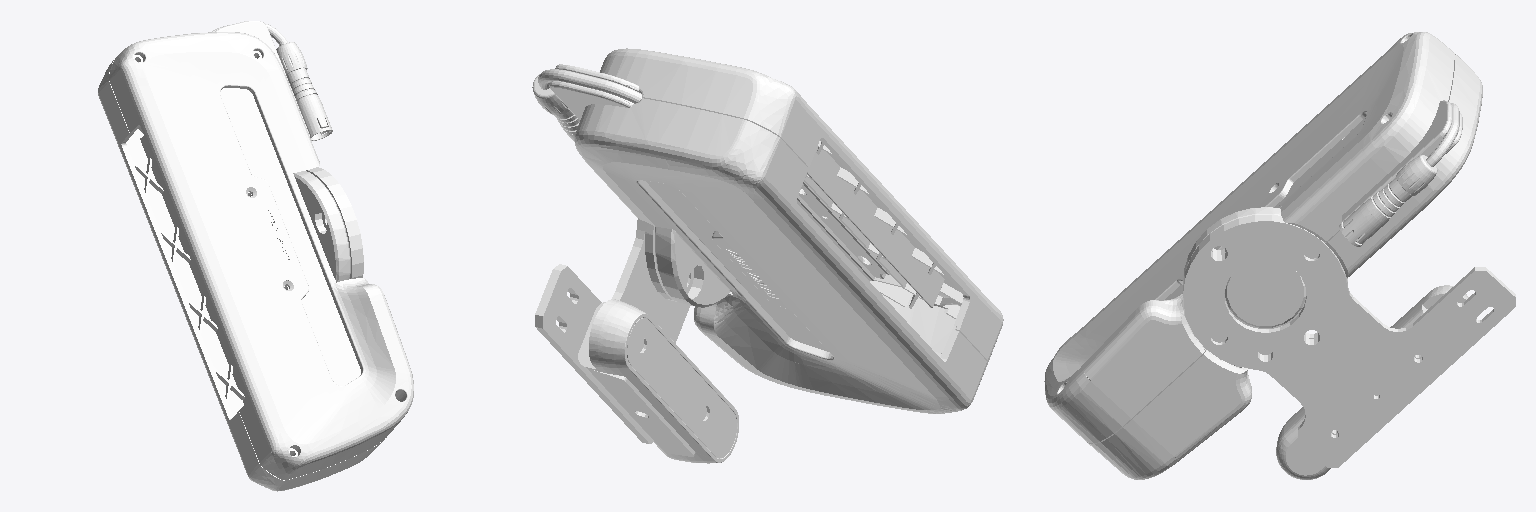
robot.urdf — panda:
<?xml version="1.0"?>
<!-- =================================================================================== -->
<!-- |    This document was autogenerated by xacro from panda_arm_hand.urdf.xacro      | -->
<!-- |    EDITING THIS FILE BY HAND IS NOT RECOMMENDED                                 | -->
<!-- =================================================================================== -->
<robot name="panda" xmlns:xacro="http://www.ros.org/wiki/xacro">
  <link name="panda_link0">
    <visual>
      <geometry>
        <mesh filename="meshes/visual/link0.dae" />
      </geometry>
      <material name="panda_white">
        <color rgba="1. 1. 1. 1." />
      </material>
    </visual>
    <collision>
      <geometry>
        <mesh filename="meshes/collision/link0.stl" />
      </geometry>
      <material name="panda_white" />
    </collision>
  </link>
  <link name="panda_link1">
    <inertial>
      <origin rpy="0 0 0" xyz="0 -0.04 -0.05" />
      <mass value="2.7" />
      <inertia ixx="0.1" ixy="0" ixz="0" iyy="0.1" iyz="0" izz="0.1" />
    </inertial>
    <visual>
      <geometry>
        <mesh filename="meshes/visual/link1.dae" />
      </geometry>
      <material name="panda_white" />
    </visual>
    <collision>
      <geometry>
        <mesh filename="meshes/collision/link1.stl" />
      </geometry>
      <material name="panda_white" />
    </collision>
  </link>
  <joint name="panda_joint1" type="revolute">
    <safety_controller k_position="100.0" k_velocity="40.0" soft_lower_limit="-2.8973"
      soft_upper_limit="2.8973" />
    <origin rpy="0 0 0" xyz="0 0 0.333" />
    <parent link="panda_link0" />
    <child link="panda_link1" />
    <axis xyz="0 0 1" />
    <limit effort="87" lower="-2.8973" upper="2.8973" velocity="2.1750" />
  </joint>
  <link name="panda_link2">
    <inertial>
      <origin rpy="0 0 0" xyz="0 -0.04 0.06" />
      <mass value="2.73" />
      <inertia ixx="0.1" ixy="0" ixz="0" iyy="0.1" iyz="0" izz="0.1" />
    </inertial>
    <visual>
      <geometry>
        <mesh filename="meshes/visual/link2.dae" />
      </geometry>
      <material name="panda_white" />
    </visual>
    <collision>
      <geometry>
        <mesh filename="meshes/collision/link2.stl" />
      </geometry>
      <material name="panda_white" />
    </collision>
  </link>
  <joint name="panda_joint2" type="revolute">
    <safety_controller k_position="100.0" k_velocity="40.0" soft_lower_limit="-1.7628"
      soft_upper_limit="1.7628" />
    <origin rpy="-1.57079632679 0 0" xyz="0 0 0" />
    <parent link="panda_link1" />
    <child link="panda_link2" />
    <axis xyz="0 0 1" />
    <limit effort="87" lower="-1.7628" upper="1.7628" velocity="2.1750" />
  </joint>
  <link name="panda_link3">
    <inertial>
      <origin rpy="0 0 0" xyz="0.01 0.01 -0.05" />
      <mass value="2.04" />
      <inertia ixx="0.1" ixy="0" ixz="0" iyy="0.1" iyz="0" izz="0.1" />
    </inertial>
    <visual>
      <geometry>
        <mesh filename="meshes/visual/link3.dae" />
      </geometry>
      <material name="panda_red">
        <color rgba="1. 1. 1. 1." />
      </material>
    </visual>
    <collision>
      <geometry>
        <mesh filename="meshes/collision/link3.stl" />
      </geometry>
    </collision>
  </link>
  <joint name="panda_joint3" type="revolute">
    <safety_controller k_position="100.0" k_velocity="40.0" soft_lower_limit="-2.8973"
      soft_upper_limit="2.8973" />
    <origin rpy="1.57079632679 0 0" xyz="0 -0.316 0" />
    <parent link="panda_link2" />
    <child link="panda_link3" />
    <axis xyz="0 0 1" />
    <limit effort="87" lower="-2.8973" upper="2.8973" velocity="2.1750" />
  </joint>
  <link name="panda_link4">
    <inertial>
      <origin rpy="0 0 0" xyz="-0.03 0.03 0.02" />
      <mass value="2.08" />
      <inertia ixx="0.1" ixy="0" ixz="0" iyy="0.1" iyz="0" izz="0.1" />
    </inertial>
    <visual>
      <geometry>
        <mesh filename="meshes/visual/link4.dae" />
      </geometry>
      <material name="panda_white" />
    </visual>
    <collision>
      <geometry>
        <mesh filename="meshes/collision/link4.stl" />
      </geometry>
      <material name="panda_white" />
    </collision>
  </link>
  <joint name="panda_joint4" type="revolute">
    <safety_controller k_position="100.0" k_velocity="40.0" soft_lower_limit="-3.0718"
      soft_upper_limit="-0.0698" />
    <origin rpy="1.57079632679 0 0" xyz="0.0825 0 0" />
    <parent link="panda_link3" />
    <child link="panda_link4" />
    <axis xyz="0 0 1" />
    <limit effort="87" lower="-3.0718" upper="-0.0698" velocity="2.1750" />
  </joint>
  <link name="panda_link5">
    <inertial>
      <origin rpy="0 0 0" xyz="0 0.04 -0.12" />
      <mass value="3" />
      <inertia ixx="0.1" ixy="0" ixz="0" iyy="0.1" iyz="0" izz="0.1" />
    </inertial>
    <visual>
      <geometry>
        <mesh filename="meshes/visual/link5.dae" />
      </geometry>
      <material name="panda_white" />
    </visual>
    <collision>
      <geometry>
        <mesh filename="meshes/collision/link5.stl" />
      </geometry>
      <material name="panda_white" />
    </collision>
  </link>
  <joint name="panda_joint5" type="revolute">
    <safety_controller k_position="100.0" k_velocity="40.0" soft_lower_limit="-2.8975"
      soft_upper_limit="2.8975" />
    <origin rpy="-1.57079632679 0 0" xyz="-0.0825 0.384 0" />
    <parent link="panda_link4" />
    <child link="panda_link5" />
    <axis xyz="0 0 1" />
    <limit effort="12" lower="-2.8975" upper="2.8975" velocity="2.6100" />
  </joint>
  <link name="panda_link6">
    <inertial>
      <origin rpy="0 0 0" xyz="0.04 0 0" />
      <mass value="1.3" />
      <inertia ixx="0.1" ixy="0" ixz="0" iyy="0.1" iyz="0" izz="0.1" />
    </inertial>
    <visual>
      <geometry>
        <mesh filename="meshes/visual/link6.dae" />
      </geometry>
      <material name="panda_white" />
    </visual>
    <collision>
      <geometry>
        <mesh filename="meshes/collision/link6.stl" />
      </geometry>
      <material name="panda_white" />
    </collision>
  </link>
  <joint name="panda_joint6" type="revolute">
    <safety_controller k_position="100.0" k_velocity="40.0" soft_lower_limit="-0.0175"
      soft_upper_limit="3.7525" />
    <origin rpy="1.57079632679 0 0" xyz="0 0 0" />
    <parent link="panda_link5" />
    <child link="panda_link6" />
    <axis xyz="0 0 1" />
    <limit effort="12" lower="-0.0175" upper="3.7525" velocity="2.6100" />
  </joint>
  <link name="panda_link7">
    <inertial>
      <origin rpy="0 0 0" xyz="0 0 0.08" />
      <mass value=".2" />
      <inertia ixx="0.1" ixy="0" ixz="0" iyy="0.1" iyz="0" izz="0.1" />
    </inertial>
    <visual>
      <geometry>
        <mesh filename="meshes/visual/link7.dae" />
      </geometry>
      <material name="panda_white" />
    </visual>
    <collision>
      <geometry>
        <mesh filename="meshes/collision/link7.stl" />
      </geometry>
      <material name="panda_white" />
    </collision>
  </link>
  <joint name="panda_joint7" type="revolute">
    <safety_controller k_position="100.0" k_velocity="40.0" soft_lower_limit="-2.8973"
      soft_upper_limit="2.8973" />
    <origin rpy="1.57079632679 0 0" xyz="0.088 0 0" />
    <parent link="panda_link6" />
    <child link="panda_link7" />
    <axis xyz="0 0 1" />
    <limit effort="12" lower="-2.8973" upper="2.8973" velocity="2.6100" />
  </joint>
  <link name="panda_link8">
  </link>
  <joint name="panda_joint8" type="fixed">
    <origin rpy="0 0 -0.785398163397" xyz="0 0 0.107" />
    <parent link="panda_link7" />
    <child link="panda_link8" />
    <axis xyz="0 0 0" />
  </joint>

  <joint name="panda_hand_joint" type="fixed">
    <parent link="panda_link8" />
    <child link="panda_hand" />
    <origin rpy="0 0 0" xyz="0 0 0.006" />
  </joint>

  <link name="panda_hand"></link>

  <joint name="fake_flange_joint" type="fixed">
    <parent link="panda_hand" />
    <child link="fake_flange" />
    <origin rpy="0 0 0" xyz="0 0 -0.006" />
  </joint>

  <link name="fake_flange"></link>

  <joint name="flange_joint" type="fixed">
    <parent link="fake_flange" />
    <child link="flange" />
    <origin rpy="0 3.1415926 3.1415926" xyz="0 0 0" /> <!--z 0.006-->
  </joint>

  <link
    name="flange">
    <inertial>
      <origin
        xyz="0.02283 0.0047681 -0.0022995"
        rpy="0 0 0" />
      <mass
        value="0.058287" />
      <inertia
        ixx="2.9219E-05"
        ixy="-9.9877E-06"
        ixz="-1.076E-06"
        iyy="5.5536E-05"
        iyz="-2.1004E-07"
        izz="8.4465E-05" />
    </inertial>
    <visual>
      <origin
        xyz="0 0 0"
        rpy="0 0 0" />
      <geometry>
        <mesh
          filename="meshes/customized_gripper/flange.STL" />
      </geometry>
      <material
        name="">
        <color
          rgba="1 1 1 1" />
      </material>
    </visual>
    <collision>
      <origin
        xyz="0 0 0"
        rpy="0 0 0" />
      <geometry>
        <mesh
          filename="meshes/customized_gripper/flange.STL" />
      </geometry>
    </collision>
  </link>
  <link
    name="camera_link">
    <inertial>
      <origin
        xyz="0.010114 -0.0020492 9.199E-05"
        rpy="0 0 0" />
      <mass
        value="0.10278" />
      <inertia
        ixx="7.2613E-05"
        ixy="-1.2272E-06"
        ixz="-3.4142E-08"
        iyy="7.0847E-06"
        iyz="-1.1863E-08"
        izz="7.1869E-05" />
    </inertial>
    <visual>
      <origin
        xyz="0 0 0"
        rpy="0 0 0" />
      <geometry>
        <mesh
          filename="meshes/customized_gripper/camera_link.STL" />
      </geometry>
      <material
        name="">
        <color
          rgba="1 1 1 1" />
      </material>
    </visual>
    <collision>
      <origin
        xyz="0 0 0"
        rpy="0 0 0" />
      <geometry>
        <mesh
          filename="meshes/customized_gripper/camera_link.STL" />
      </geometry>
    </collision>
  </link>
  <joint
    name="camera_joint"
    type="fixed">
    <origin
      xyz="0.06 0 -0.003"
      rpy="0 1.5708 0" />
    <parent
      link="flange" />
    <child
      link="camera_link" />
    <axis
      xyz="0 0 0" />
  </joint>
  <link
    name="basebody1_link">
    <inertial>
      <origin
        xyz="5.0336E-05 0.0010937 -0.016697"
        rpy="0 0 0" />
      <mass
        value="0.17463" />
      <inertia
        ixx="0.00028328"
        ixy="-1.4577E-07"
        ixz="-6.5522E-08"
        iyy="4.7378E-05"
        iyz="9.2325E-07"
        izz="0.00029833" />
    </inertial>
    <visual>
      <origin
        xyz="0 0 0"
        rpy="0 0 0" />
      <geometry>
        <mesh
          filename="meshes/customized_gripper/basebody1_link.STL" />
      </geometry>
      <material
        name="">
        <color
          rgba="1 1 1 1" />
      </material>
    </visual>
    <collision>
      <origin
        xyz="0 0 0"
        rpy="0 0 0" />
      <geometry>
        <mesh
          filename="meshes/customized_gripper/basebody1_link.STL" />
      </geometry>
    </collision>
  </link>
  <joint
    name="basebody1_joint"
    type="fixed">
    <origin
      xyz="0 0 0"
      rpy="0 0 0" />
    <parent
      link="flange" />
    <child
      link="basebody1_link" />
    <axis
      xyz="0 0 0" />
  </joint>
  <link
    name="cable1_link">
    <inertial>
      <origin
        xyz="-7.6838E-16 0.085884 -0.011726"
        rpy="0 0 0" />
      <mass
        value="0.0034189" />
      <inertia
        ixx="1.7275E-06"
        ixy="1.2981E-21"
        ixz="3.7235E-23"
        iyy="8.7108E-07"
        iyz="-4.4962E-07"
        izz="8.6321E-07" />
    </inertial>
    <visual>
      <origin
        xyz="0 0 0"
        rpy="0 0 0" />
      <geometry>
        <mesh
          filename="meshes/customized_gripper/cable1_link.STL" />
      </geometry>
      <material
        name="">
        <color
          rgba="1 1 1 1" />
      </material>
    </visual>
    <collision>
      <origin
        xyz="0 0 0"
        rpy="0 0 0" />
      <geometry>
        <mesh
          filename="meshes/customized_gripper/cable1_link.STL" />
      </geometry>
    </collision>
  </link>
  <joint
    name="cable1_joint"
    type="fixed">
    <origin
      xyz="0 0 0"
      rpy="0 0 0" />
    <parent
      link="flange" />
    <child
      link="cable1_link" />
    <axis
      xyz="0 0 0" />
  </joint>
  <link
    name="cable2_link">
    <inertial>
      <origin
        xyz="-6.0542E-07 0.069512 0.015001"
        rpy="0 0 0" />
      <mass
        value="0.0087825" />
      <inertia
        ixx="1.2068E-06"
        ixy="-7.5509E-11"
        ixz="2.1709E-10"
        iyy="1.3571E-07"
        iyz="1.7652E-10"
        izz="1.2064E-06" />
    </inertial>
    <visual>
      <origin
        xyz="0 0 0"
        rpy="0 0 0" />
      <geometry>
        <mesh
          filename="meshes/customized_gripper/cable2_link.STL" />
      </geometry>
      <material
        name="">
        <color
          rgba="1 1 1 1" />
      </material>
    </visual>
    <collision>
      <origin
        xyz="0 0 0"
        rpy="0 0 0" />
      <geometry>
        <mesh
          filename="meshes/customized_gripper/cable2_link.STL" />
      </geometry>
    </collision>
  </link>
  <joint
    name="cable2_joint"
    type="fixed">
    <origin
      xyz="0 0 0"
      rpy="0 0 0" />
    <parent
      link="cable1_link" />
    <child
      link="cable2_link" />
    <axis
      xyz="0 0 0" />
  </joint>
  <link
    name="basebody2_link">
    <inertial>
      <origin
        xyz="-2.7792E-05 -0.0025508 -0.034721"
        rpy="0 0 0" />
      <mass
        value="0.27945" />
      <inertia
        ixx="0.0014553"
        ixy="-7.8451E-07"
        ixz="1.1461E-07"
        iyy="0.00018239"
        iyz="1.0848E-05"
        izz="0.0012903" />
    </inertial>
    <visual>
      <origin
        xyz="0 0 0"
        rpy="0 0 0" />
      <geometry>
        <mesh
          filename="meshes/customized_gripper/basebody2_link.STL" />
      </geometry>
      <material
        name="">
        <color
          rgba="1 1 1 1" />
      </material>
    </visual>
    <collision>
      <origin
        xyz="0 0 0"
        rpy="0 0 0" />
      <geometry>
        <mesh
          filename="meshes/customized_gripper/basebody2_link.STL" />
      </geometry>
    </collision>
  </link>
  <joint
    name="basebody2_joint"
    type="fixed">
    <origin
      xyz="0 0 0"
      rpy="0 0 0" />
    <parent
      link="flange" />
    <child
      link="basebody2_link" />
    <axis
      xyz="0 0 0" />
  </joint>
  
  
  <link
    name="panda_leftfinger">
    <visual>
      <origin
        xyz="0 0 0"
        rpy="0 0 0" />
      <geometry>
        <mesh
          filename="meshes/customized_gripper/finger_visual.obj" />
      </geometry>
      <material
        name="">
        <color
          rgba="1 1 1 1" />
      </material>
    </visual>
    <collision>
      <origin
        xyz="0 0 0"
        rpy="0 0 0" />
      <geometry>
        <mesh
          filename="meshes/customized_gripper/finger_coll.obj" />
      </geometry>
    </collision>
  </link>

  <joint
    name="panda_finger_joint1"
    type="prismatic">
    <origin
      xyz="0 0 -0.1324"
      rpy="1.5708 1.5708 0" />
    <parent
      link="basebody2_link" />
    <child
      link="panda_leftfinger" />
    <axis
      xyz="0 0 -1" />
    <limit
      lower="0"
      upper="0.04"
      effort="0"
      velocity="2.61" />
  </joint>
  
  <link
    name="panda_rightfinger">
    <visual>
      <origin
        xyz="0 0 0"
        rpy="0 0 0" />
      <geometry>
        <mesh
          filename="meshes/customized_gripper/finger_visual.obj" />
      </geometry>
      <material
        name="">
        <color
          rgba="1 1 1 1" />
      </material>
    </visual>
    <collision>
      <origin
        xyz="0 0 0"
        rpy="0 0 0" />
      <geometry>
        <mesh
          filename="meshes/customized_gripper/finger_coll.obj" />
      </geometry>
    </collision>
  </link>
  
  <joint
    name="panda_finger_joint2"
    type="prismatic">
    <origin
      xyz="0 0 -0.1324"
      rpy="1.5708 1.5708 3.1415926" />
    <parent
      link="basebody2_link" />
    <child
      link="panda_rightfinger" />
    <axis
      xyz="0 0 -1" />
    <limit
      lower="0"
      upper="0.04"
      effort="0"
      velocity="2.61" />
  </joint>

  <link name="panda_grasptarget">
    <inertial>
      <origin rpy="0 0 0" xyz="0 0 0" />
      <mass value="0.0" />
      <inertia ixx="0.1" ixy="0" ixz="0" iyy="0.1" iyz="0" izz="0.1" />
    </inertial>
  </link>
  <joint name="panda_grasptarget_hand" type="fixed">
    <parent link="flange" />
    <child link="panda_grasptarget" />
    <origin rpy="0 0 0" xyz="0 0 -0.1324" />
  </joint>


</robot>

--- What the picture shows (computed from the rendered views, not written in the file) ---
Views: 3 orthographic renders of the robot side by side, from view 1: azimuth 30°, elevation 25°; view 2: azimuth 150°, elevation 25°; view 3: azimuth 270°, elevation 25°.
Model panda with 20 links and 19 joints (7 revolute, 2 prismatic, 10 fixed), rooted at panda_link0, posed all joints at 0 but 1 set to mid-range because 0 is outside their limits (panda_joint4 = -1.57).
Links seen in each view (by area): view 1: basebody2_link, basebody1_link, cable2_link, flange; view 2: basebody2_link, camera_link, basebody1_link, flange, cable1_link, cable2_link; view 3: basebody2_link, flange, basebody1_link, cable2_link, camera_link, cable1_link.
Boxes of the visible links, x1=… form: basebody2_link: x1=98, y1=21, x2=413, y2=491; basebody1_link: x1=220, y1=88, x2=360, y2=385; cable2_link: x1=276, y1=42, x2=332, y2=140; flange: x1=306, y1=167, x2=363, y2=278; basebody2_link: x1=549, y1=48, x2=1003, y2=413; camera_link: x1=578, y1=299, x2=738, y2=463; basebody1_link: x1=646, y1=181, x2=888, y2=351; flange: x1=535, y1=218, x2=690, y2=443; cable1_link: x1=538, y1=69, x2=641, y2=103; cable2_link: x1=532, y1=74, x2=579, y2=141; basebody2_link: x1=1044, y1=32, x2=1482, y2=479; flange: x1=1183, y1=215, x2=1515, y2=467; basebody1_link: x1=1165, y1=119, x2=1364, y2=365; cable2_link: x1=1339, y1=155, x2=1437, y2=246; camera_link: x1=1276, y1=285, x2=1476, y2=479; cable1_link: x1=1426, y1=103, x2=1459, y2=166.
Size in the robot's own frame: 0.0928 by 0.1799 by 0.1675 metres.
Meshes: 15 distinct files referenced, 6 mesh visuals loaded (6 binary STL); not drawn: 8 (reference not matched to a file when rendering), 2 (file found but could not be loaded).